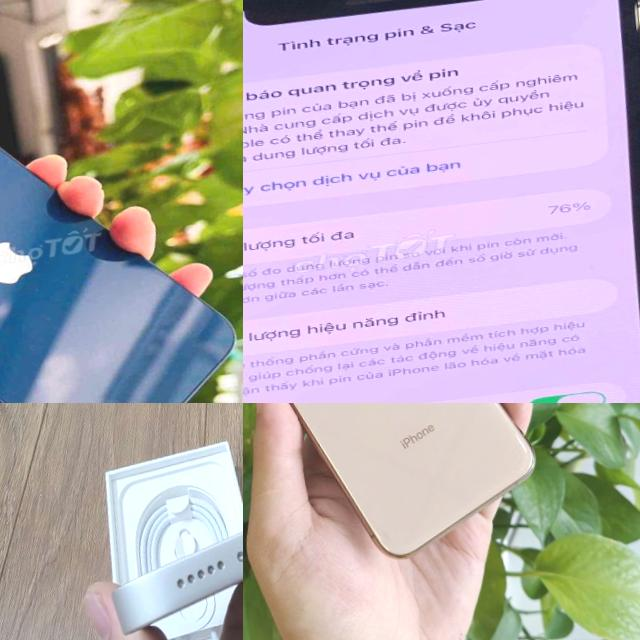gen_12_13: (243, 0, 640, 403), (0, 51, 243, 403)
gen_16: (113, 531, 243, 633)
gen_x_xs: (243, 403, 544, 579)
